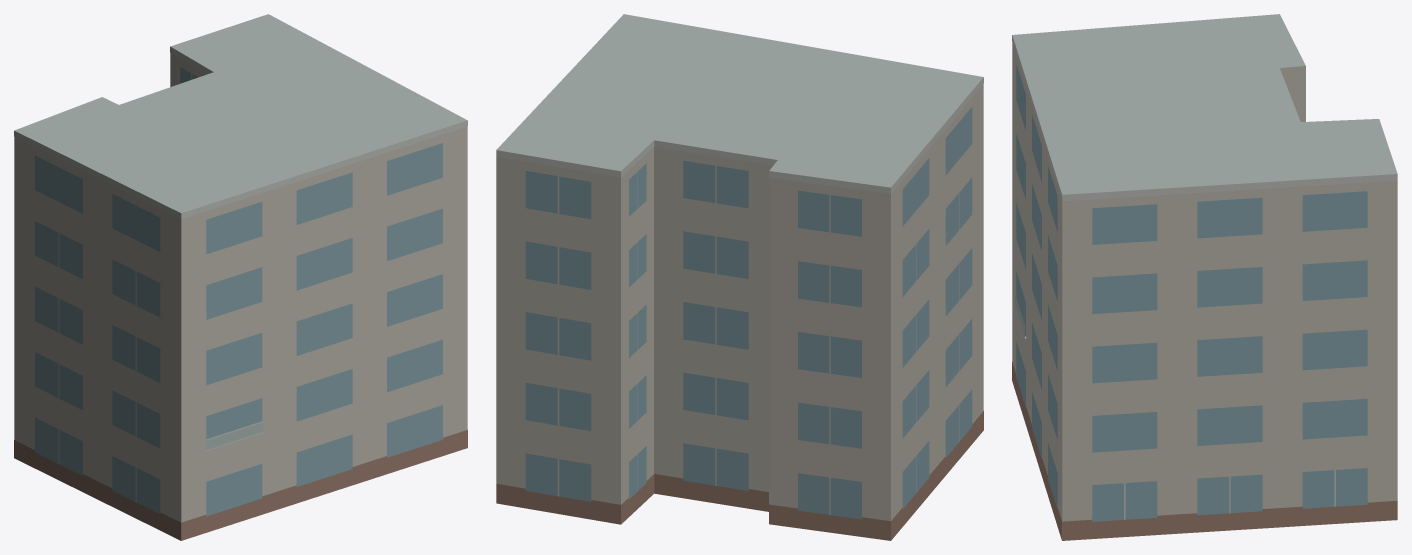
The model's file is survey-upis-32597051.glb.
The picture shows the model from 3 angles, left to right: view 1: azimuth 30°, elevation 25°; view 2: azimuth 150°, elevation 25°; view 3: azimuth 270°, elevation 25°; orthographic projection. The views are drawn at different scales.
Visible parts, largest first — view 1: survey-upis-32597051.tmp; view 2: survey-upis-32597051.tmp; view 3: survey-upis-32597051.tmp.
Boxes of the visible parts, x1=… form: survey-upis-32597051.tmp: x1=14, y1=14, x2=467, y2=540; survey-upis-32597051.tmp: x1=496, y1=14, x2=983, y2=540; survey-upis-32597051.tmp: x1=1012, y1=14, x2=1397, y2=540.
Size of the model in its own units: 14.8 by 13.2 by 13.33.
